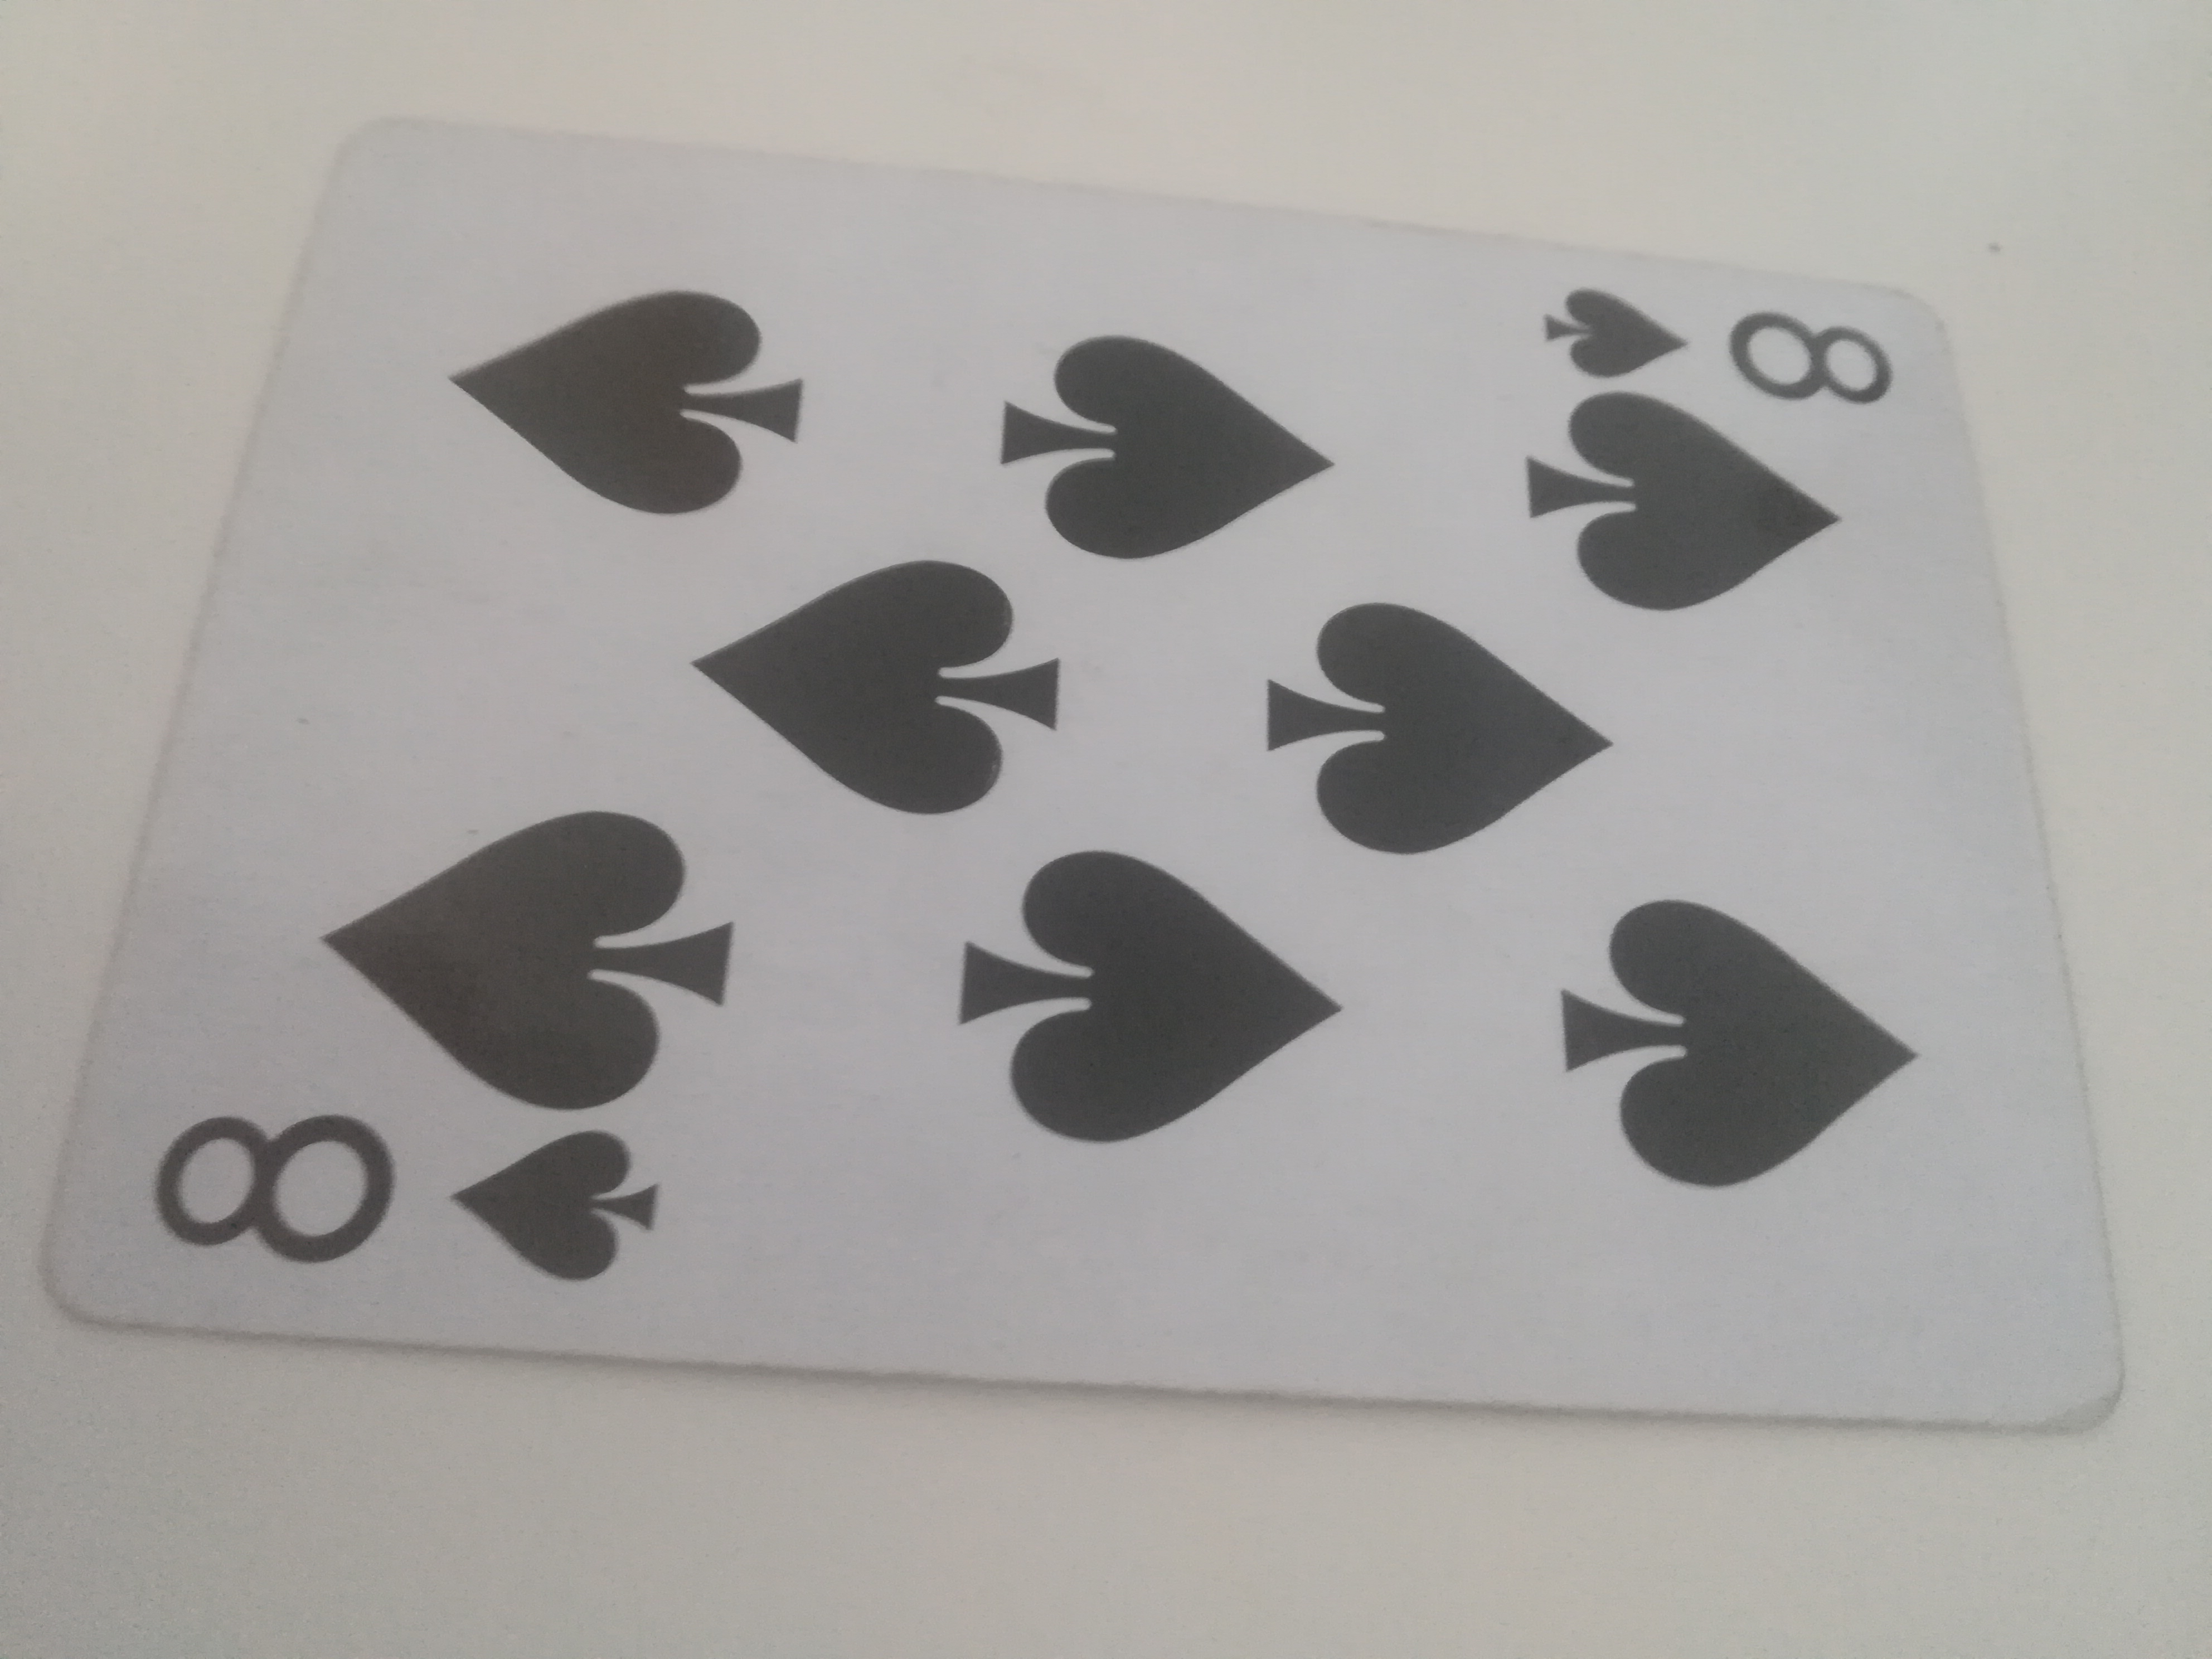8S: (54, 119, 2135, 1446)
